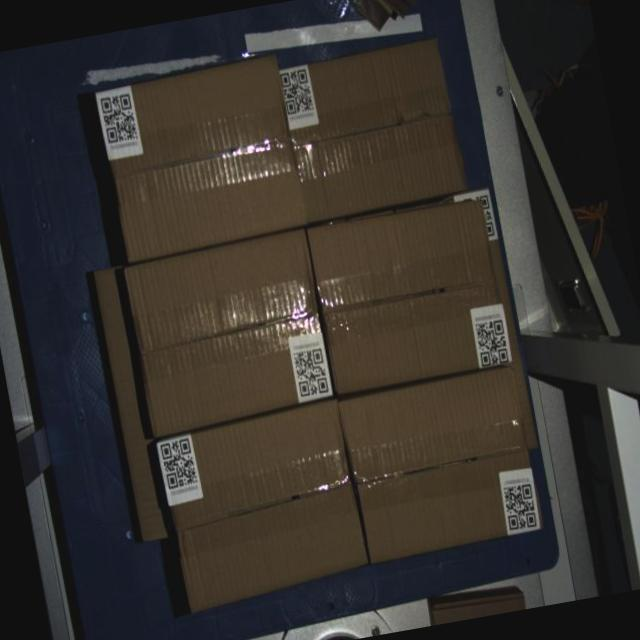box: (153, 399, 371, 613), (93, 54, 308, 264), (122, 228, 336, 438), (306, 196, 514, 395), (337, 366, 545, 564), (278, 36, 468, 222)
